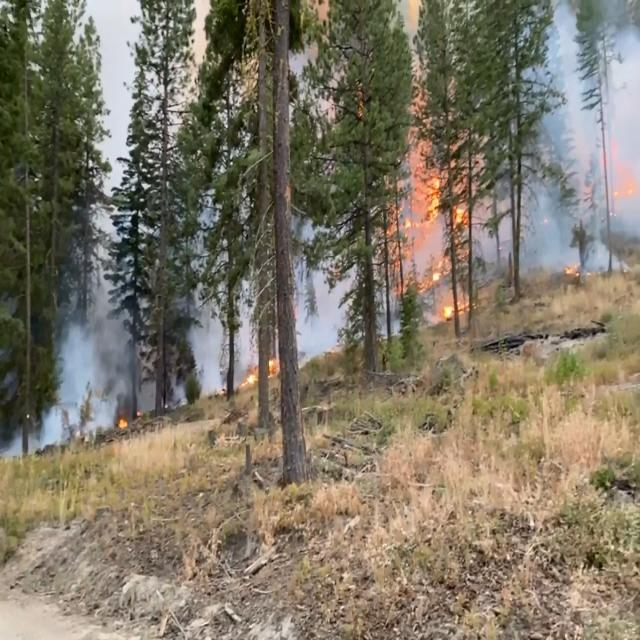Fire: (398, 86, 478, 327)
